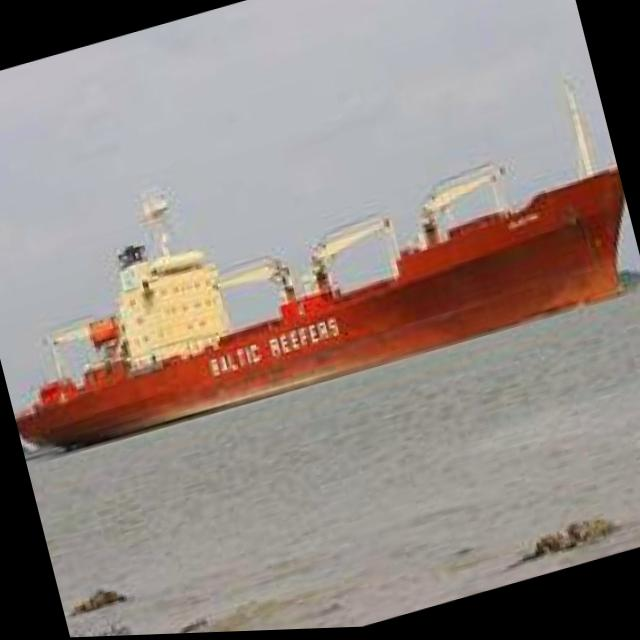ship2: (14, 169, 627, 451)
